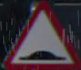Speed Breaker ahead: (2, 4, 80, 69)
